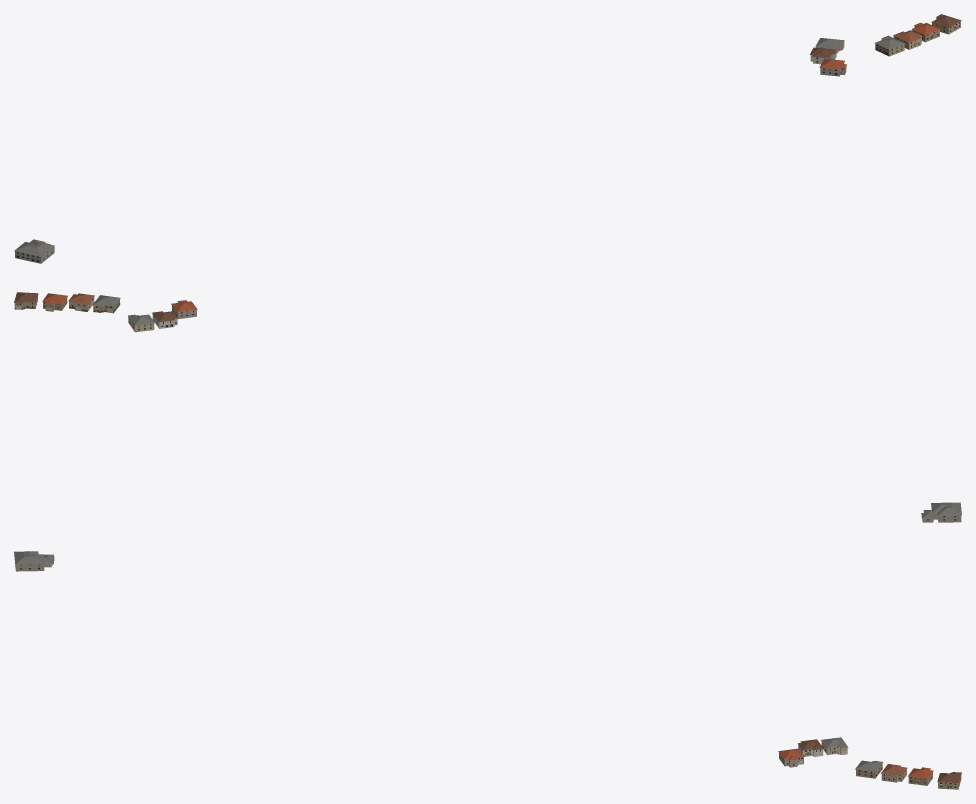
3 renders of one model, top to bottom at view 1: azimuth 30°, elevation 25°; view 2: azimuth 150°, elevation 25°; view 3: azimuth 330°, elevation 25°, orthographic.
Parts seen in each view (by area): view 1: buildings_r7_c4_lod0; view 2: buildings_r7_c4_lod0; view 3: buildings_r7_c4_lod0.
Boxes of the visible parts, x1,y1,x2,y2 form: buildings_r7_c4_lod0: [14, 14, 961, 263]; buildings_r7_c4_lod0: [14, 292, 961, 522]; buildings_r7_c4_lod0: [14, 551, 961, 789].
Bounding box in the file's own units: 887 × 15.93 × 63.13.
